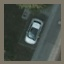car: (24, 19, 43, 43)
